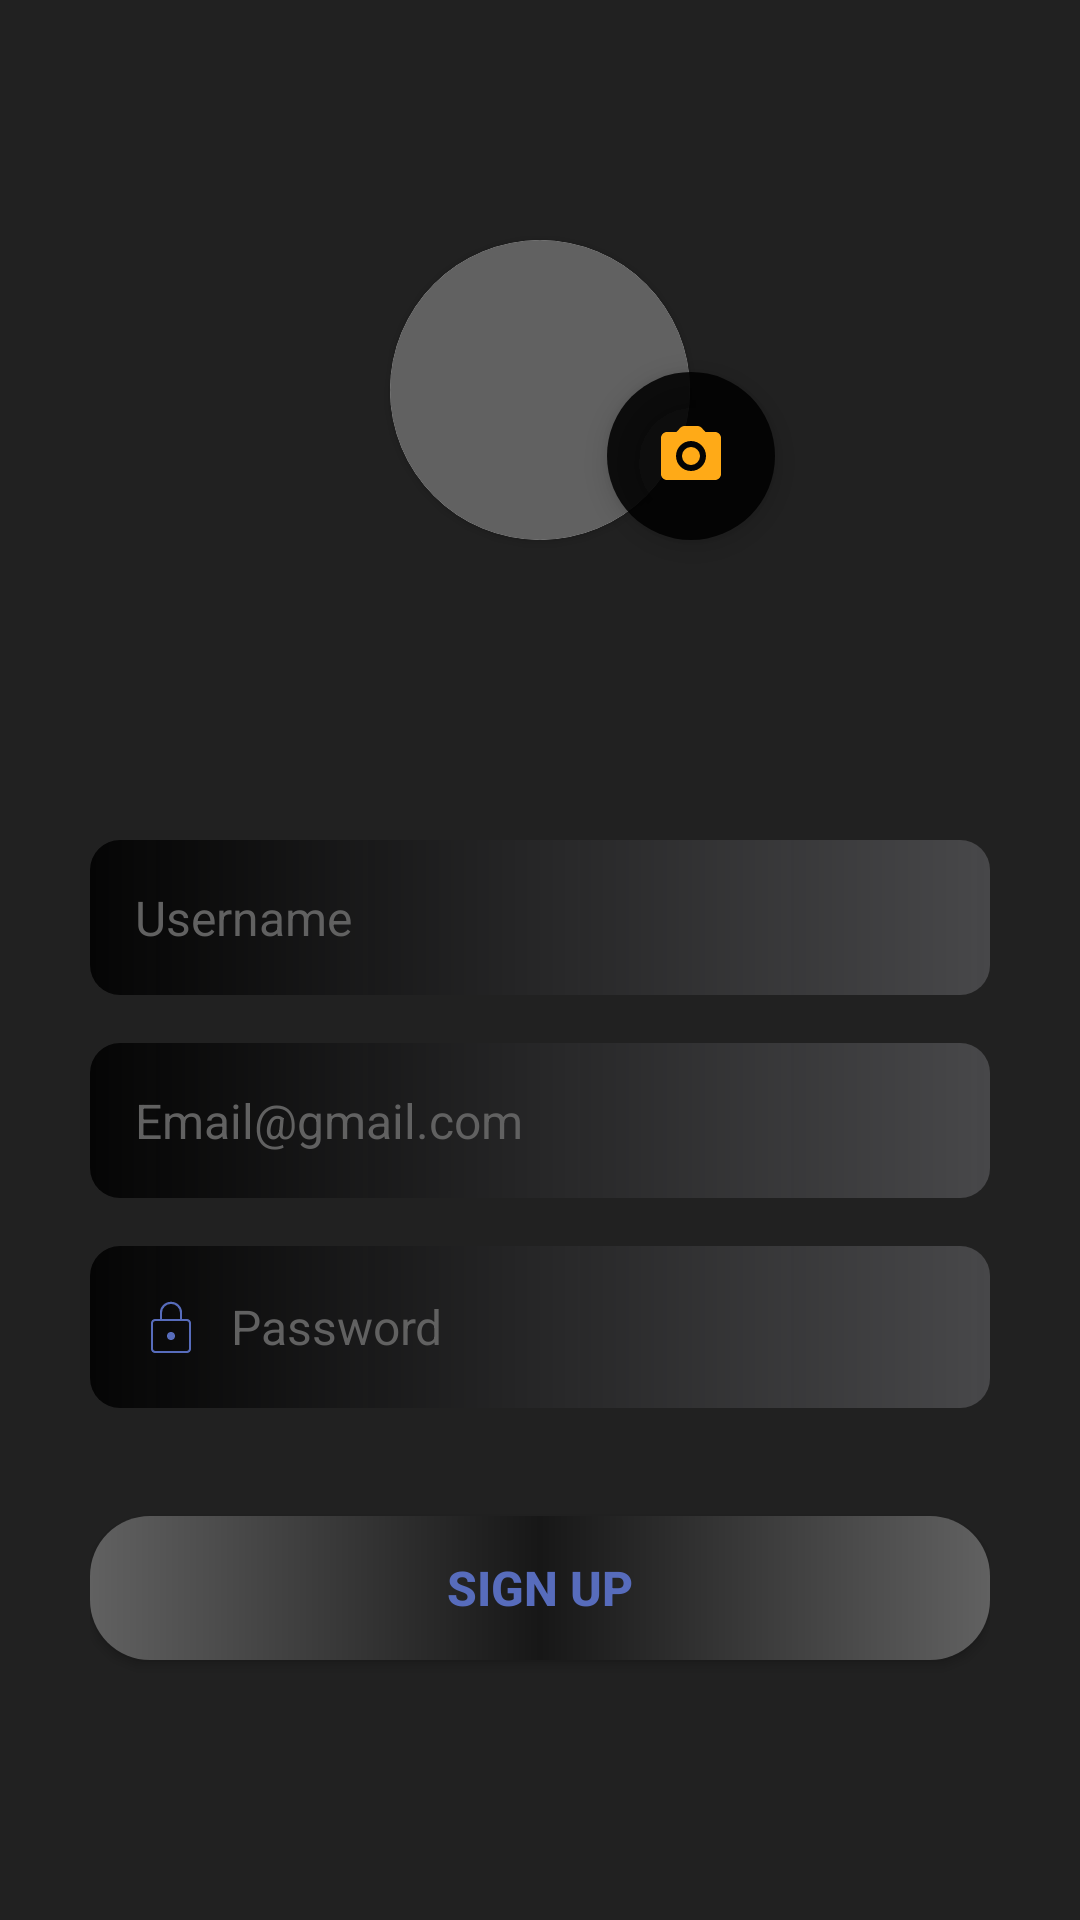

Screen size 1080 x 1920. Icon name, then its box in pixels as (x1, y1, x2, y2):
Camera: (607, 372, 775, 540)
